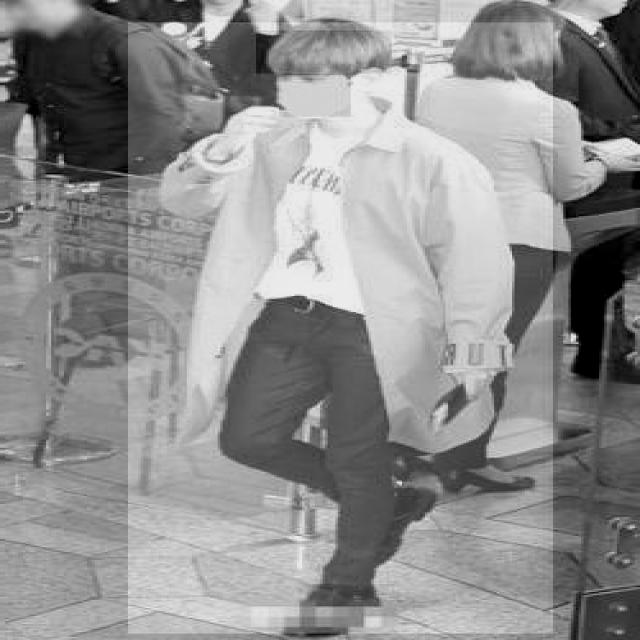face_mask: (276, 74, 351, 118)
hand_noglove: (224, 100, 285, 146), (449, 362, 511, 404)
head_nohelmet: (254, 30, 392, 76)
person: (125, 22, 553, 636)
shoes: (435, 455, 545, 497)
